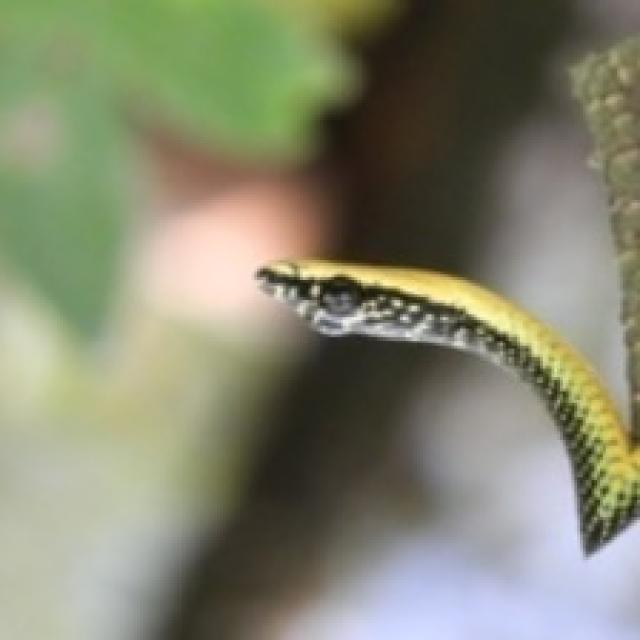paradise tree snake: (257, 37, 637, 549)
